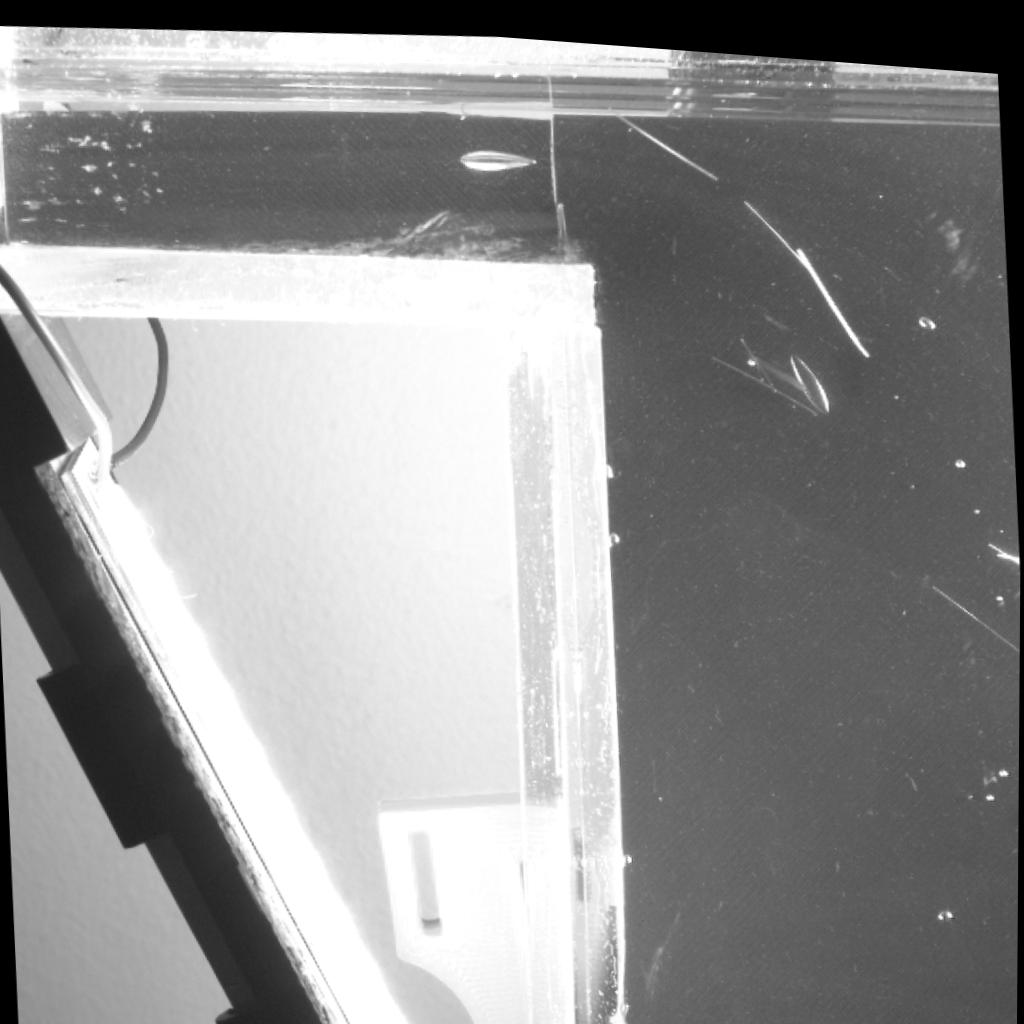Fiber: (792, 237, 873, 347), (606, 100, 722, 171), (737, 184, 821, 265), (711, 344, 823, 401), (931, 575, 1021, 642), (740, 327, 777, 380), (986, 523, 1019, 551)
